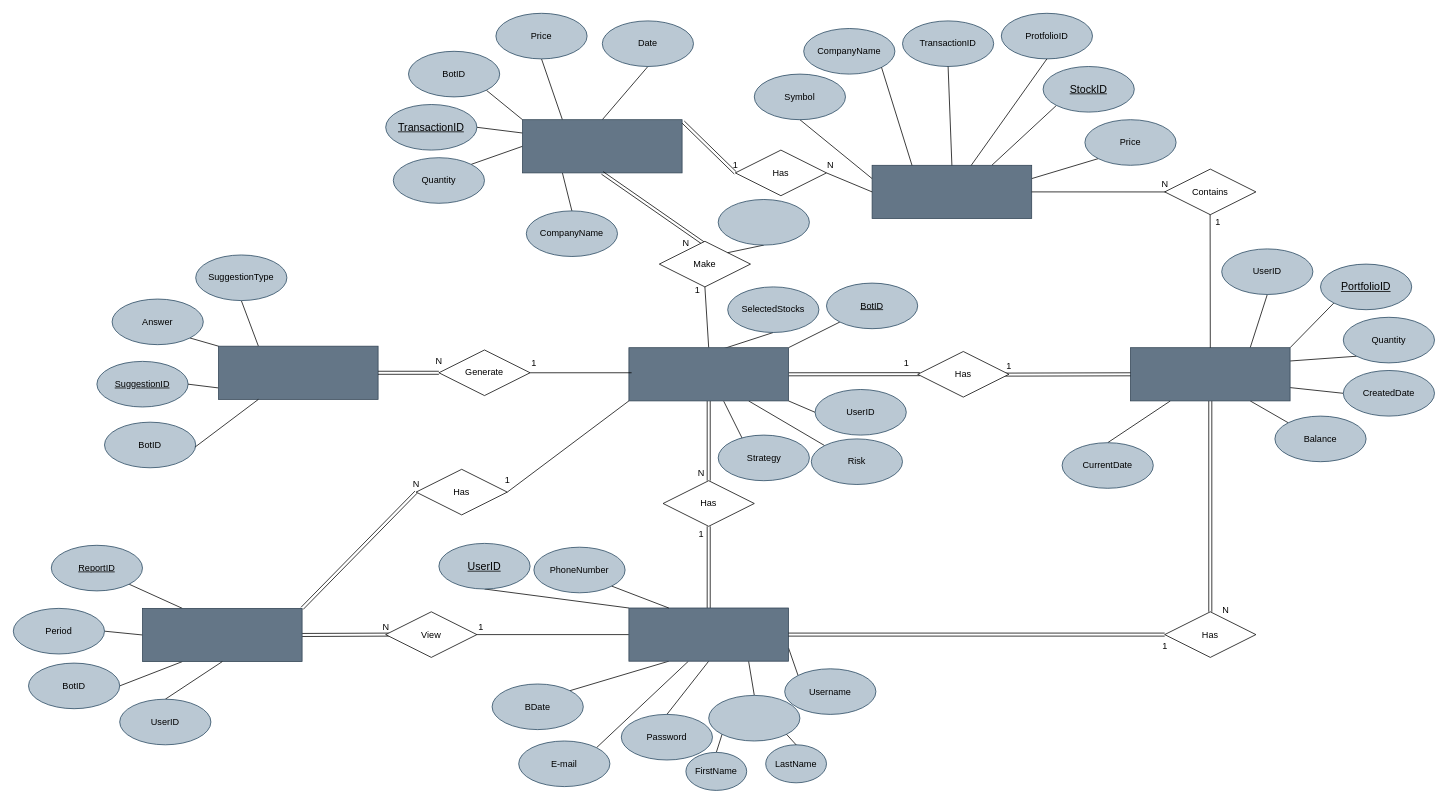
This 1448x804 diagram has some shape labels left out. Each missing label, with the centre of its shape:
Bot: the point at 708,374
Name: the point at 754,718
Notification: the point at 763,222
Portfolio: the point at 1210,374
Report: the point at 222,635
Stock: the point at 951,191
Suggestion: the point at 298,372
Transaction: the point at 602,146
User: the point at 708,634
